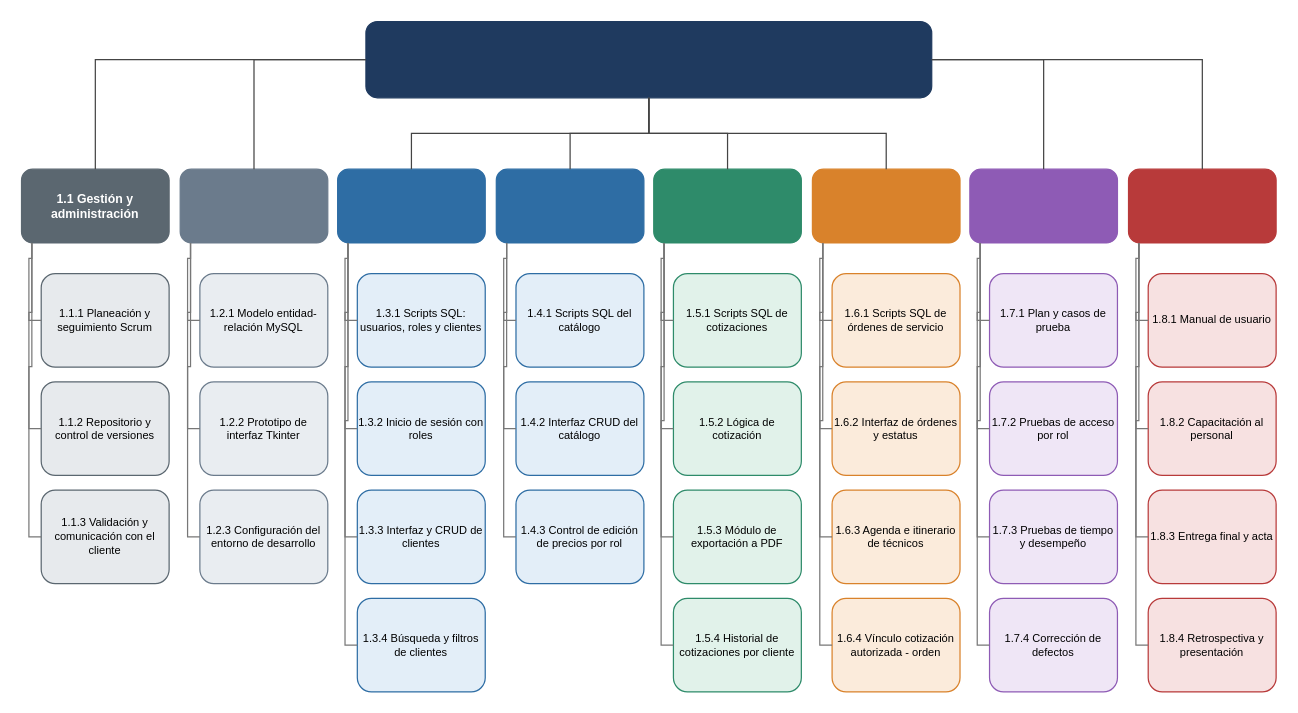
This 1298x713 diagram has some shape labels left out. The centre of each missing label's shape, as x and y in pixels:
1 Sistema de escritorio Eclipcom (Eclipse Comunicaciones): (x=648, y=59)
1.2 Investigación y diseño (Sprint 0): (x=253, y=205)
1.3 Sprint 1: Autenticación y Clientes: (x=410, y=205)
1.4 Sprint 2: Catálogo de precios: (x=569, y=205)
1.5 Sprint 3: Cotizaciones en PDF (MVP): (x=727, y=205)
1.6 Sprint 4: Órdenes de servicio: (x=885, y=205)
1.7 Pruebas integrales: (x=1043, y=205)
1.8 Cierre y divulgación: (x=1201, y=205)
